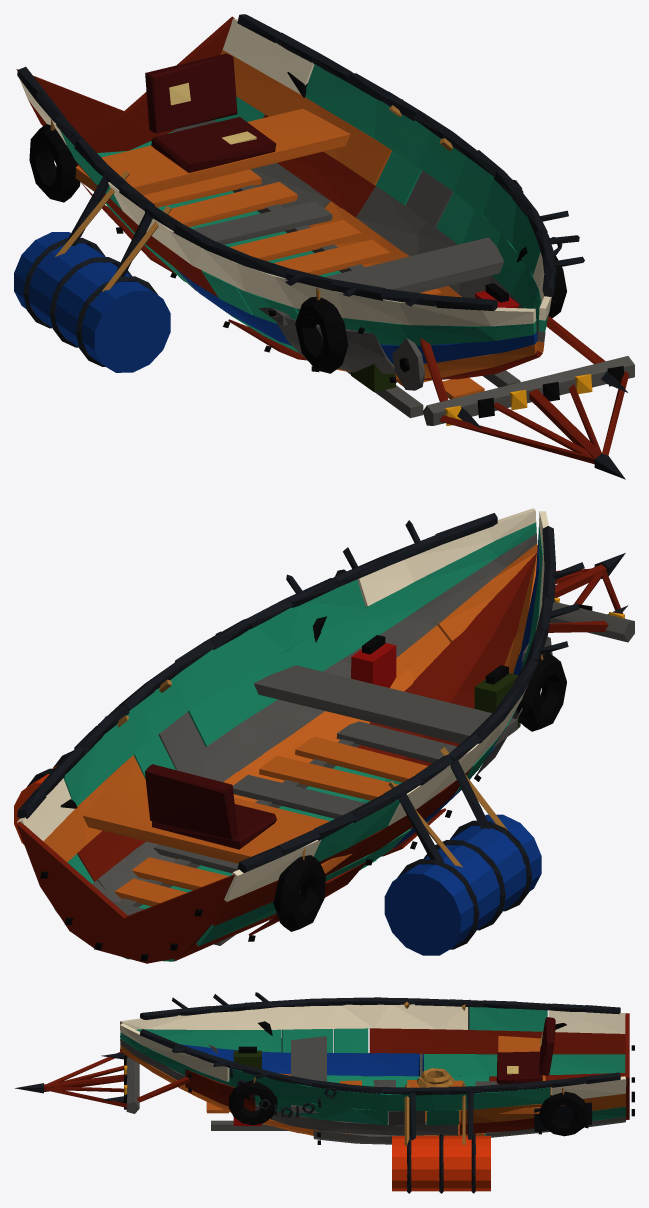
The model's file is tb_patchwork_skiff.three-web-toon.lod50.glb.
The picture shows the model from 3 angles, top to bottom: view 1: azimuth 30°, elevation 25°; view 2: azimuth 150°, elevation 25°; view 3: azimuth 270°, elevation 25°; orthographic projection. The views are drawn at different scales.
Parts seen in each view (by area): view 1: tb_patchwork_skiff_mesh_lod; view 2: tb_patchwork_skiff_mesh_lod; view 3: tb_patchwork_skiff_mesh_lod.
Boxes of the visible parts, x1,y1,x2,y2 form: tb_patchwork_skiff_mesh_lod: (14,14,634,479); tb_patchwork_skiff_mesh_lod: (14,508,634,963); tb_patchwork_skiff_mesh_lod: (15,992,634,1193).
Size of the model in its own units: 2.81 by 1.1 by 5.39.
